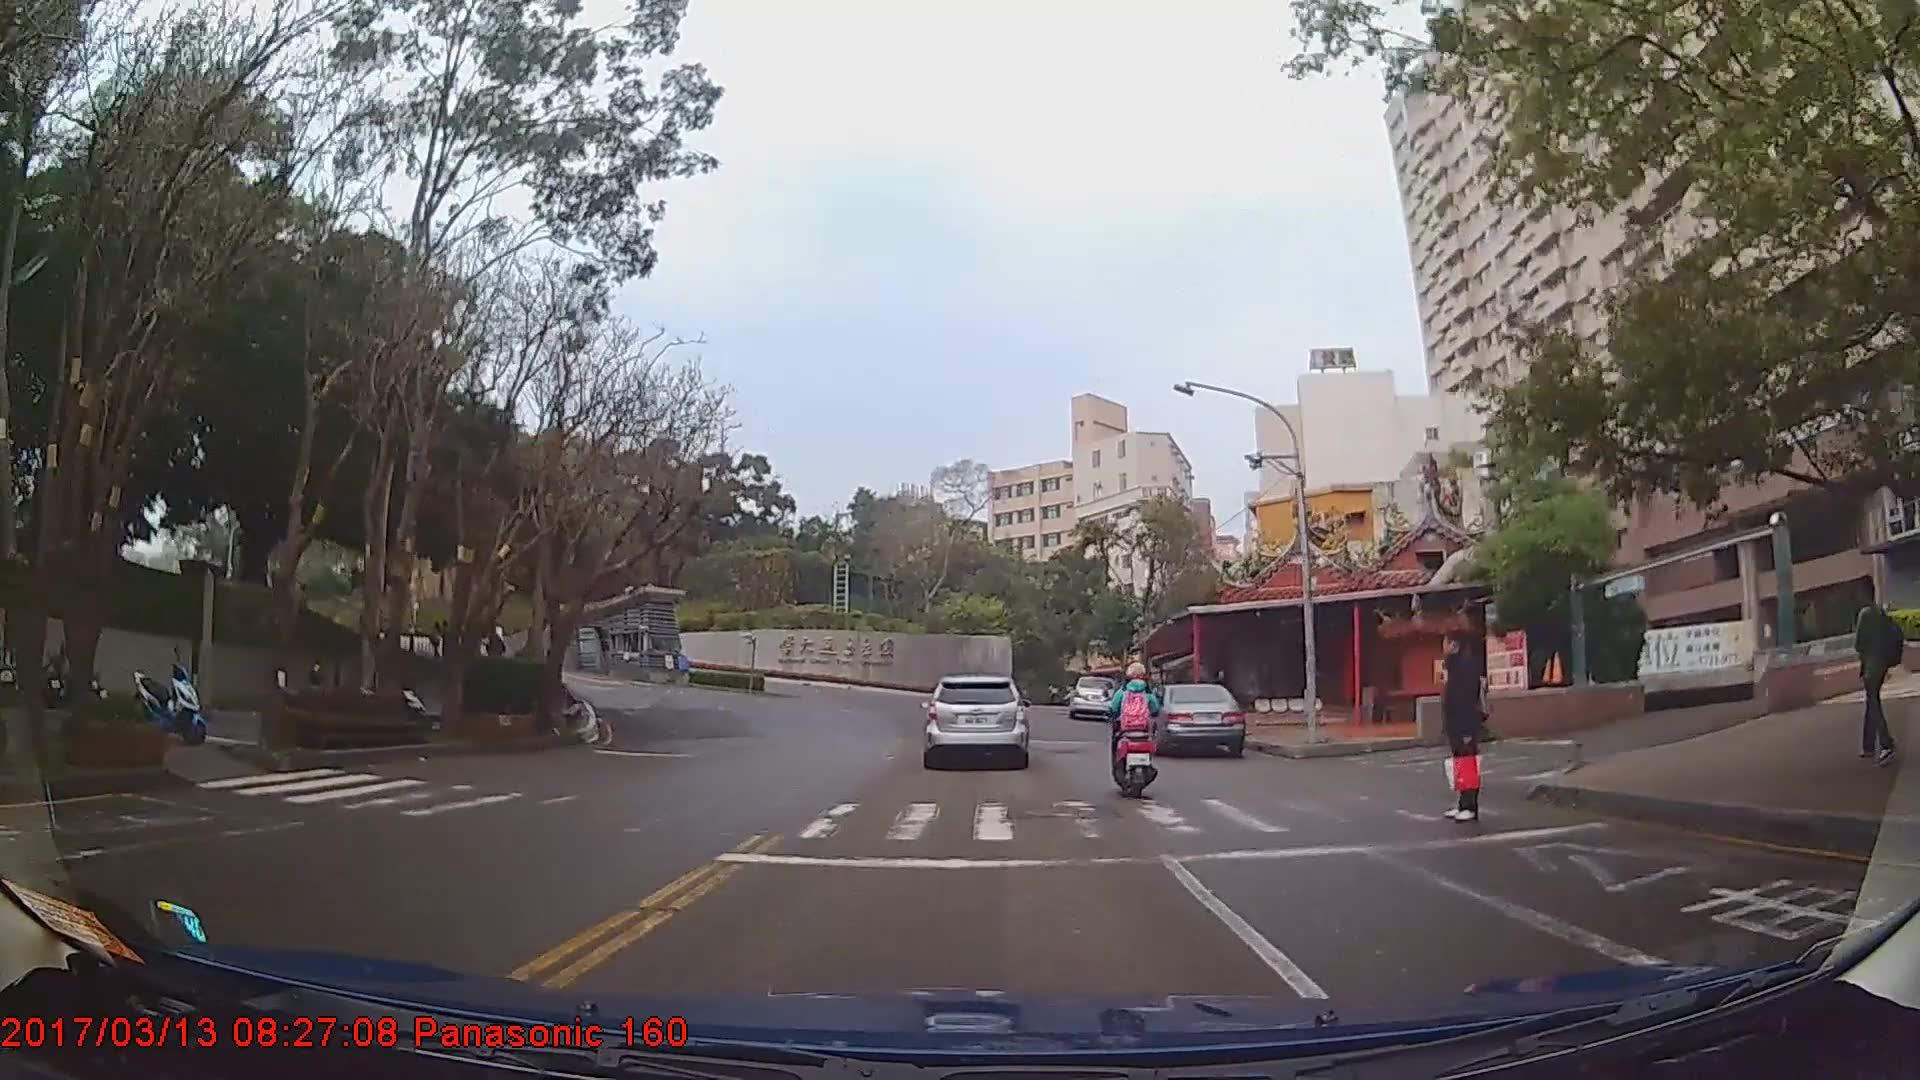pedestrian: (1849, 577, 1906, 766), (1441, 624, 1490, 824)
rider: (1107, 667, 1168, 808)
vehicle: (924, 670, 1028, 768), (1141, 682, 1244, 756), (1069, 674, 1118, 720)
